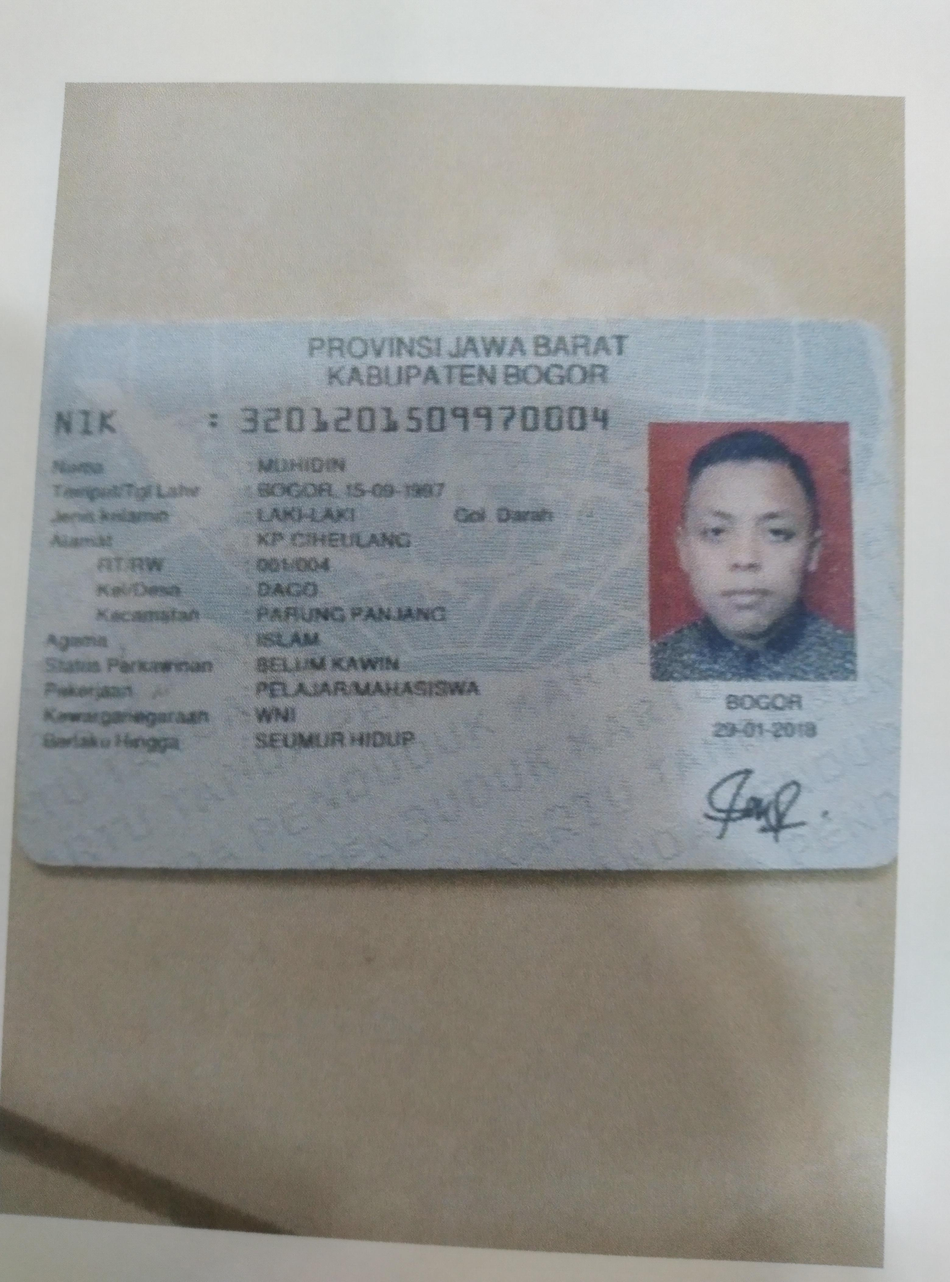ktp: (22, 318, 894, 872)
